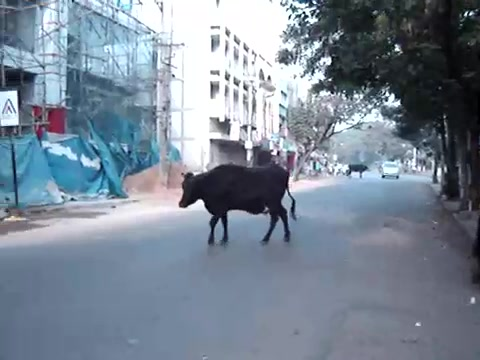cow: (179, 162, 299, 247)
